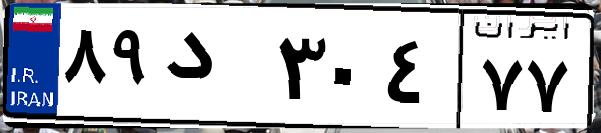0: (330, 28, 385, 110)
3: (270, 28, 330, 110)
4: (385, 28, 445, 110)
7: (475, 38, 525, 113), (525, 38, 570, 115)
8: (57, 26, 110, 100)
9: (110, 28, 158, 98)
د: (158, 20, 270, 120)
